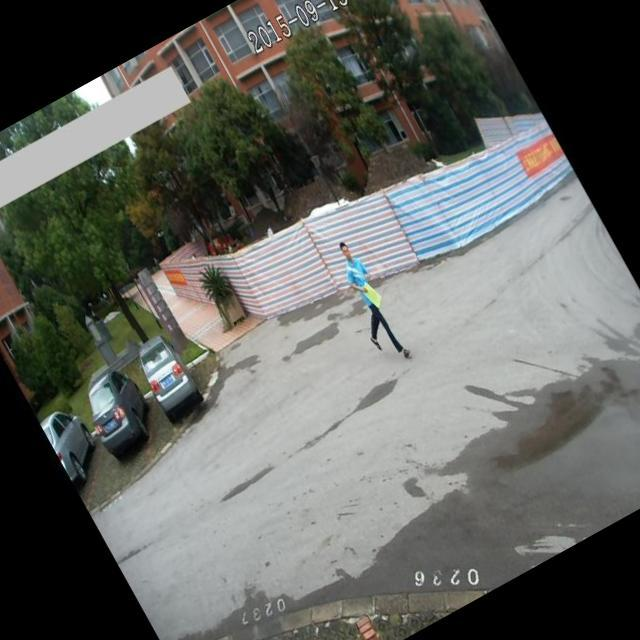person: (321, 232, 419, 374)
